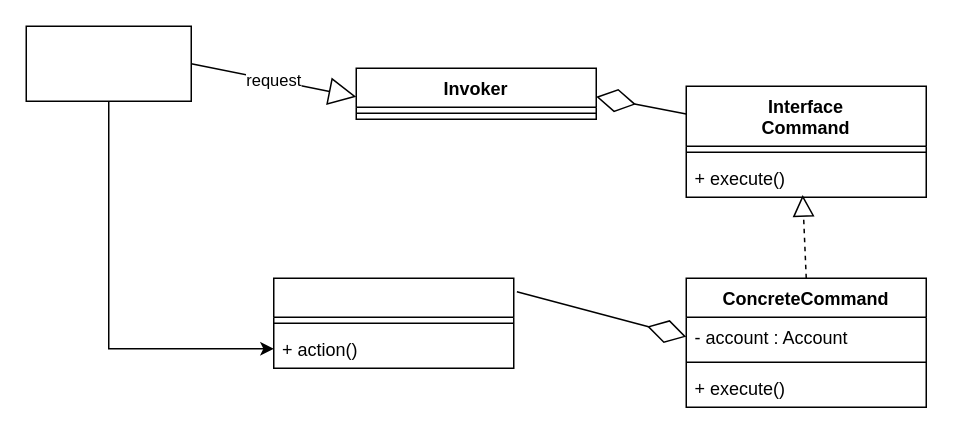
The diagram is 953 pixels wide and 438 high, and some of its shapes have lost their labels. The shapes that lost their labels are listed below. From the top down, each one's box as (x1, y1, x2, y2) in pixels, then its label:
(25, 25, 191, 101): Client
(272, 277, 514, 368): Reciever
